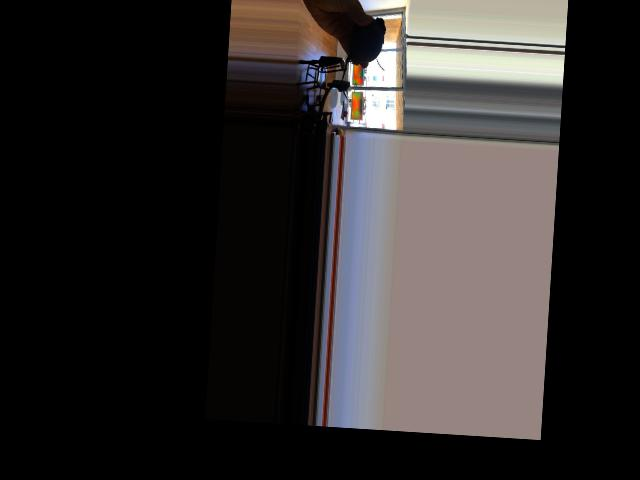beet: (340, 16, 386, 101)
